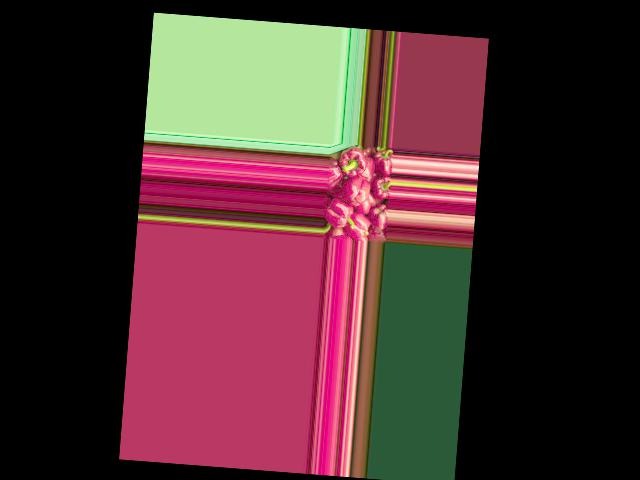bell_pepper: (373, 148, 393, 175)
